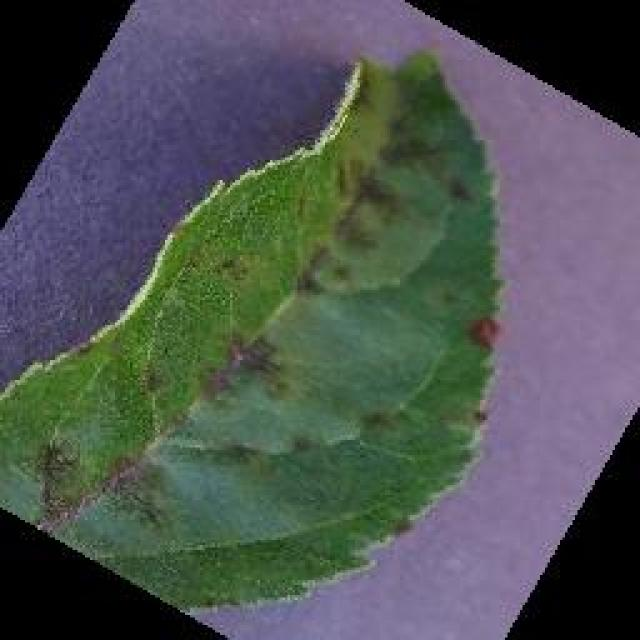apple scab disease: (0, 45, 508, 610)
